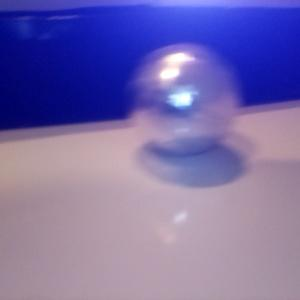alive_ball: (126, 43, 239, 156)
